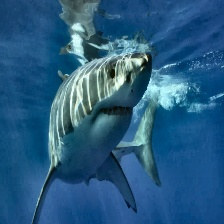shark: (28, 49, 157, 223)
